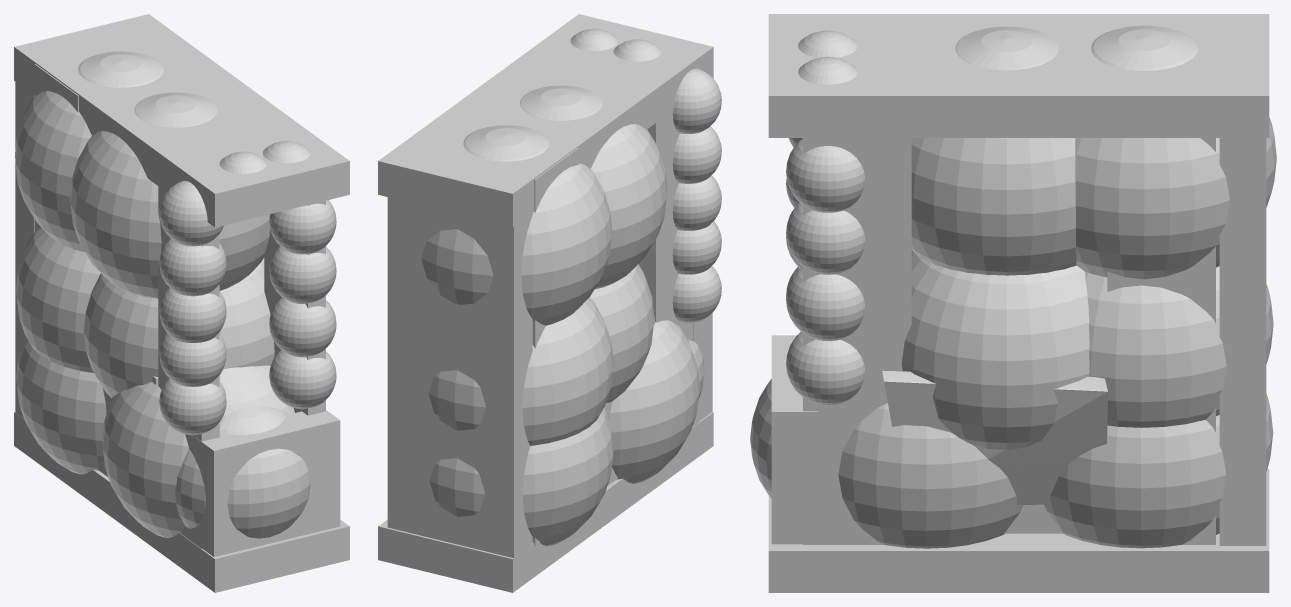
File: rocketship.glb
3 renders of one model, left to right at view 1: azimuth 30°, elevation 25°; view 2: azimuth 150°, elevation 25°; view 3: azimuth 270°, elevation 25°, orthographic. The views are drawn at different scales.
Parts seen in each view (by area): view 1: Cube.013, Sphere.002, Sphere.018, Sphere.001, Cube.010, Sphere.003, Cube.004, Sphere, Sphere.005, Sphere.017, Sphere.015, Sphere.016 (+13 smaller); view 2: Cube.009, Cube.013, Sphere.003, Sphere.005, Sphere.017, Sphere.002, Cube.004, Sphere.018, Sphere.001, Cube.022, Sphere.010, Sphere.009 (+7 smaller); view 3: Cube.013, Sphere.001, Sphere.002, Cube.004, Sphere.003, Cube.012, Cube.009, Sphere.017, Sphere.018, Sphere.005, door_L, Cube.010 (+9 smaller).
Part boxes in pixels (x1,y1,x2,y2): Cube.013: (14,14,349,227); Sphere.002: (70,92,269,298); Sphere.018: (102,365,294,537); Sphere.001: (83,257,274,397); Cube.010: (195,410,340,556); Sphere.003: (15,51,163,252); Cube.004: (14,412,349,592); Sphere: (175,406,310,538); Sphere.005: (16,227,100,372); Sphere.017: (16,336,106,474); Sphere.015: (269,297,336,357); Sphere.016: (269,350,336,409); Cube.009: (387,197,532,558); Cube.013: (378,14,713,227); Sphere.003: (421,125,612,325); Sphere.005: (428,297,613,445); Sphere.017: (429,407,613,545); Sphere.002: (520,85,667,289); Cube.004: (378,412,713,592); Sphere.018: (609,320,699,483); Sphere.001: (590,264,654,402); Cube.022: (638,111,699,426); Sphere.010: (672,68,721,133); Sphere.009: (672,126,721,183); Cube.013: (768,14,1269,137); Sphere.001: (901,250,1089,449); Sphere.002: (911,26,1076,275); Cube.004: (768,469,1269,592); Sphere.003: (1075,25,1276,279); Cube.012: (803,138,911,544); Cube.009: (1219,138,1266,545); Sphere.017: (1044,393,1273,548); Sphere.018: (838,403,1023,548); Sphere.005: (1085,266,1273,427); door_L: (882,370,1107,504); Cube.010: (771,335,817,544).
Size of the model in its own units: 0.6753 by 1.36 by 1.25.
1 material, 1 textured.
